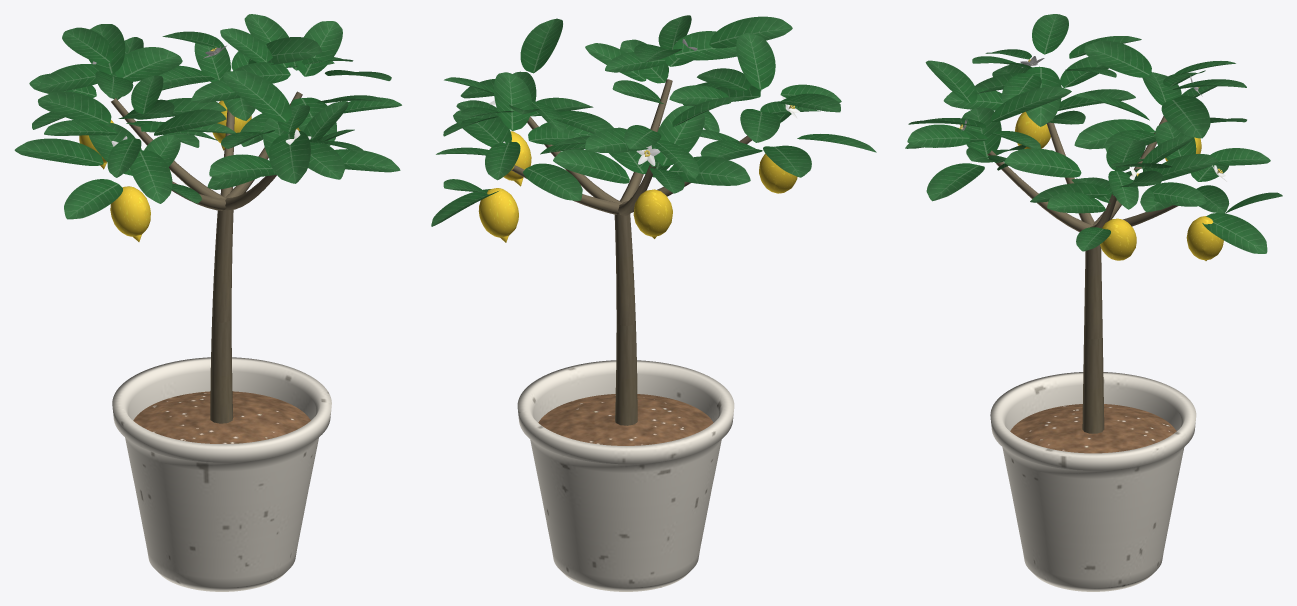
Rendered from citrus.glb.
The picture shows the model from 3 angles, left to right: view 1: azimuth 30°, elevation 25°; view 2: azimuth 150°, elevation 25°; view 3: azimuth 270°, elevation 25°; orthographic projection. The views are drawn at different scales.
Visible parts, largest first — view 1: piece-0, piece-1, piece-2, piece-3, piece-53, piece-54, piece-46, piece-36, piece-38, piece-32, piece-64, piece-39 (+27 smaller); view 2: piece-0, piece-1, piece-2, piece-3, piece-42, piece-23, piece-27, piece-62, piece-59, piece-28, piece-63, piece-6 (+25 smaller); view 3: piece-0, piece-1, piece-2, piece-3, piece-6, piece-31, piece-16, piece-32, piece-53, piece-52, piece-34, piece-57 (+25 smaller).
Part boxes in pixels (x1=…): piece-0: x1=112, y1=357, x2=331, y2=591; piece-1: x1=133, y1=391, x2=310, y2=443; piece-2: x1=210, y1=209, x2=233, y2=423; piece-3: x1=111, y1=91, x2=302, y2=210; piece-53: x1=223, y1=70, x2=291, y2=122; piece-54: x1=269, y1=130, x2=310, y2=183; piece-46: x1=14, y1=138, x2=103, y2=165; piece-36: x1=64, y1=179, x2=122, y2=219; piece-38: x1=38, y1=91, x2=111, y2=124; piece-32: x1=115, y1=47, x2=182, y2=81; piece-64: x1=110, y1=186, x2=150, y2=241; piece-39: x1=130, y1=150, x2=172, y2=203; piece-0: x1=517, y1=360, x2=734, y2=591; piece-1: x1=538, y1=394, x2=713, y2=445; piece-2: x1=614, y1=214, x2=637, y2=425; piece-3: x1=511, y1=79, x2=751, y2=215; piece-42: x1=736, y1=32, x2=775, y2=89; piece-23: x1=494, y1=72, x2=531, y2=130; piece-27: x1=553, y1=149, x2=629, y2=183; piece-62: x1=478, y1=188, x2=518, y2=242; piece-59: x1=709, y1=16, x2=792, y2=48; piece-28: x1=668, y1=156, x2=750, y2=185; piece-63: x1=633, y1=189, x2=672, y2=238; piece-6: x1=520, y1=18, x2=562, y2=73; piece-0: x1=990, y1=372, x2=1196, y2=591; piece-1: x1=1010, y1=404, x2=1176, y2=453; piece-2: x1=1082, y1=244, x2=1104, y2=433; piece-3: x1=987, y1=116, x2=1177, y2=232; piece-6: x1=1004, y1=148, x2=1081, y2=177; piece-31: x1=1084, y1=40, x2=1151, y2=77; piece-16: x1=1202, y1=213, x2=1267, y2=253; piece-32: x1=1161, y1=95, x2=1210, y2=138; piece-53: x1=991, y1=86, x2=1071, y2=121; piece-52: x1=926, y1=163, x2=984, y2=201; piece-34: x1=1074, y1=119, x2=1155, y2=149; piece-57: x1=907, y1=124, x2=970, y2=147.
Size of the model in its own units: 0.3273 by 0.4186 by 0.301.
8 materials, 6 textured.
